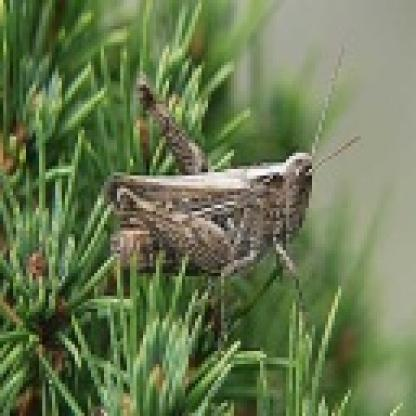grasshopper: (108, 75, 330, 312)
